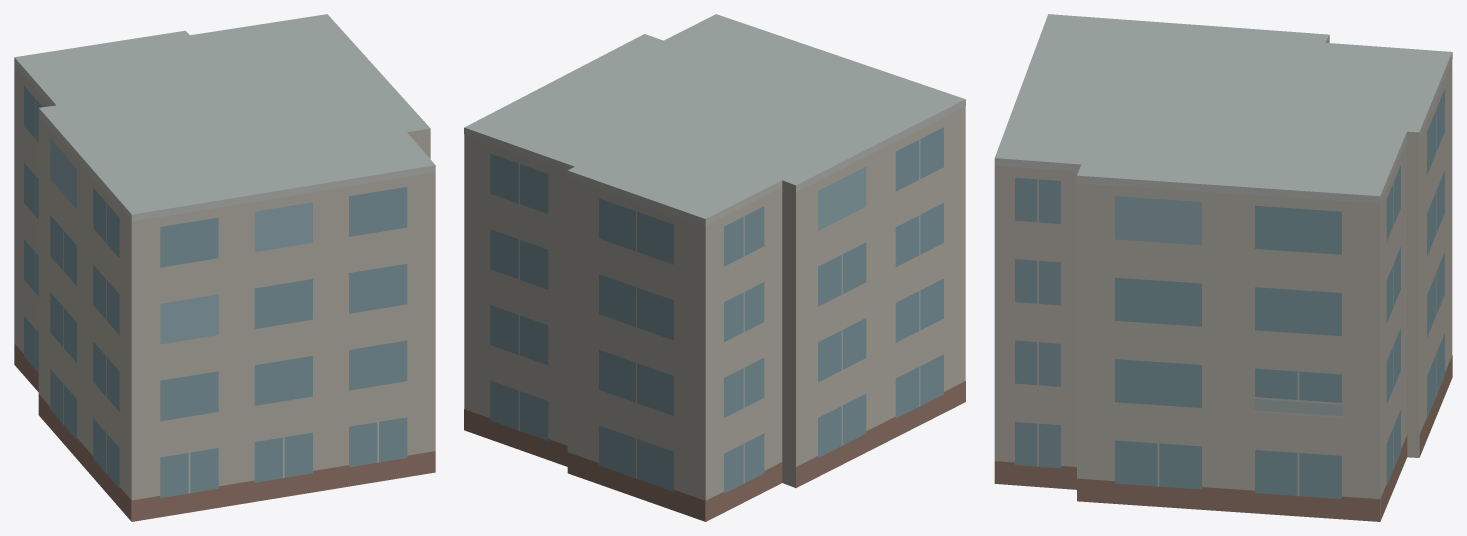
Rendered from survey-upis-32999397.glb.
3 views of the same model, side by side, from view 1: azimuth 30°, elevation 25°; view 2: azimuth 150°, elevation 25°; view 3: azimuth 270°, elevation 25° (orthographic). The views are drawn at different scales.
Parts seen in each view (by area): view 1: survey-upis-32999397.tmp; view 2: survey-upis-32999397.tmp; view 3: survey-upis-32999397.tmp.
Boxes of the visible parts, x1=… form: survey-upis-32999397.tmp: x1=14, y1=14, x2=435, y2=521; survey-upis-32999397.tmp: x1=464, y1=14, x2=965, y2=521; survey-upis-32999397.tmp: x1=994, y1=14, x2=1452, y2=521.
Size of the model in its own units: 12.79 by 10.65 by 13.58.
